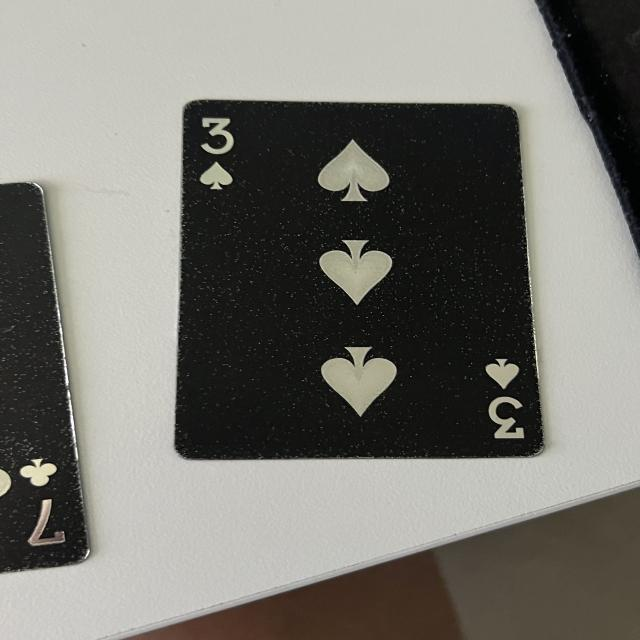3S: (482, 356, 534, 444), (198, 114, 246, 196)
7C: (17, 454, 78, 552)
